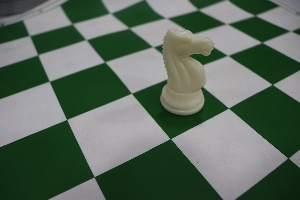white_horse: (151, 16, 217, 129)
